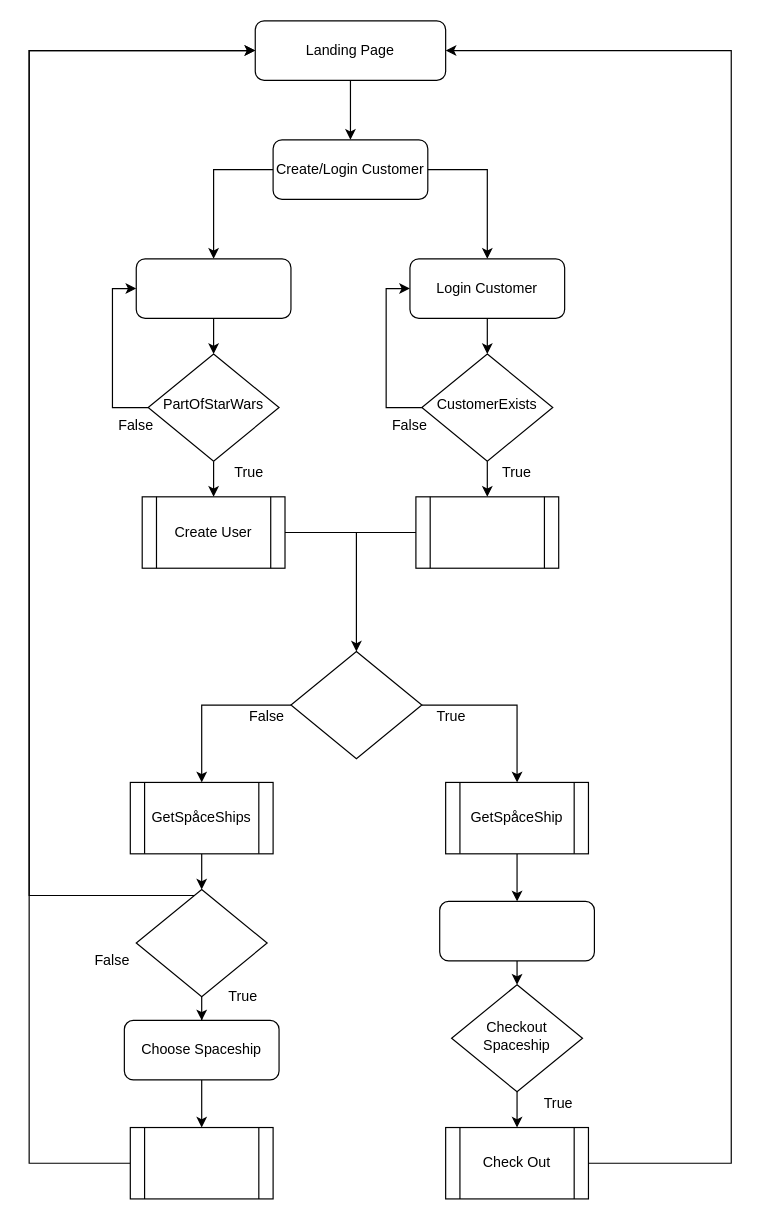
Image size: 762x1220. Some labels were removed from this diagram. The shapes that lost their labels are listed below. From the top down, each one's box as (x1, y1, x2, y2) in pixels, then its label:
(135, 258, 291, 318): Create Customer
(415, 496, 559, 568): Login User
(290, 650, 422, 759): DockedSpaceship
(135, 888, 267, 997): HasSpaceships
(439, 900, 594, 961): Docked Spaceship
(129, 1126, 273, 1199): Check In
